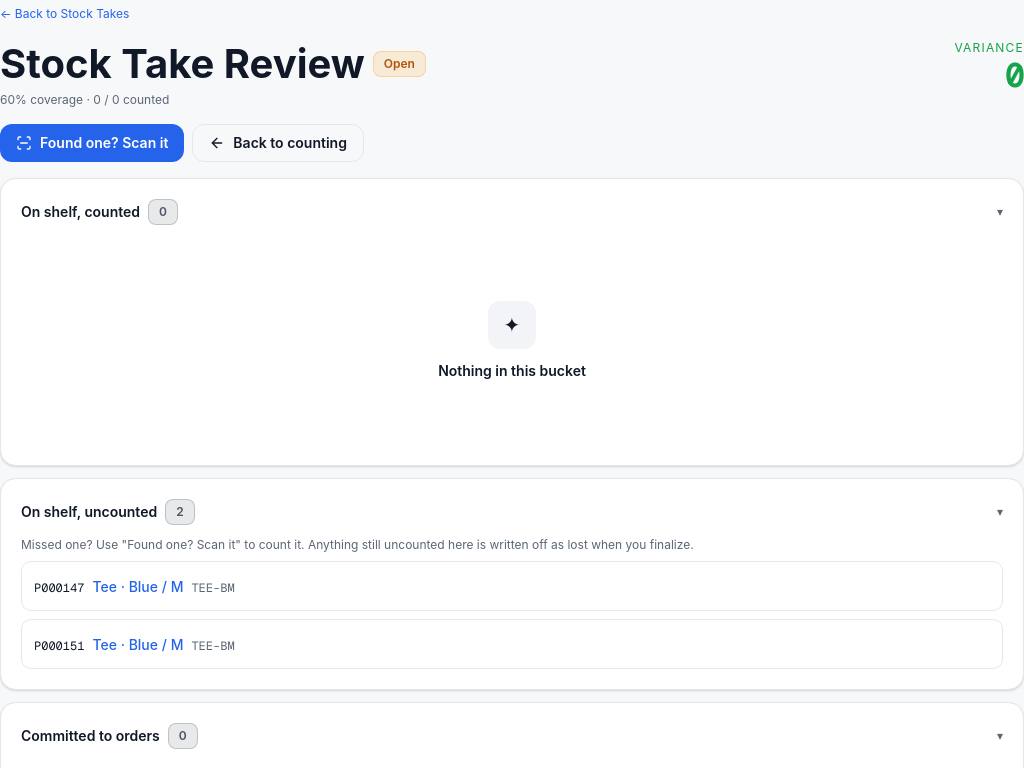
stock-take review — scan instead of Found it / Mark lost › rs3 — overlay outcomes: already counted, not in this count, the server's refusal text
This screenshot has width=1024, height=768.
Click the button "Found one? Scan it" at (92, 143), box x1=0 y1=124 x2=184 y2=162
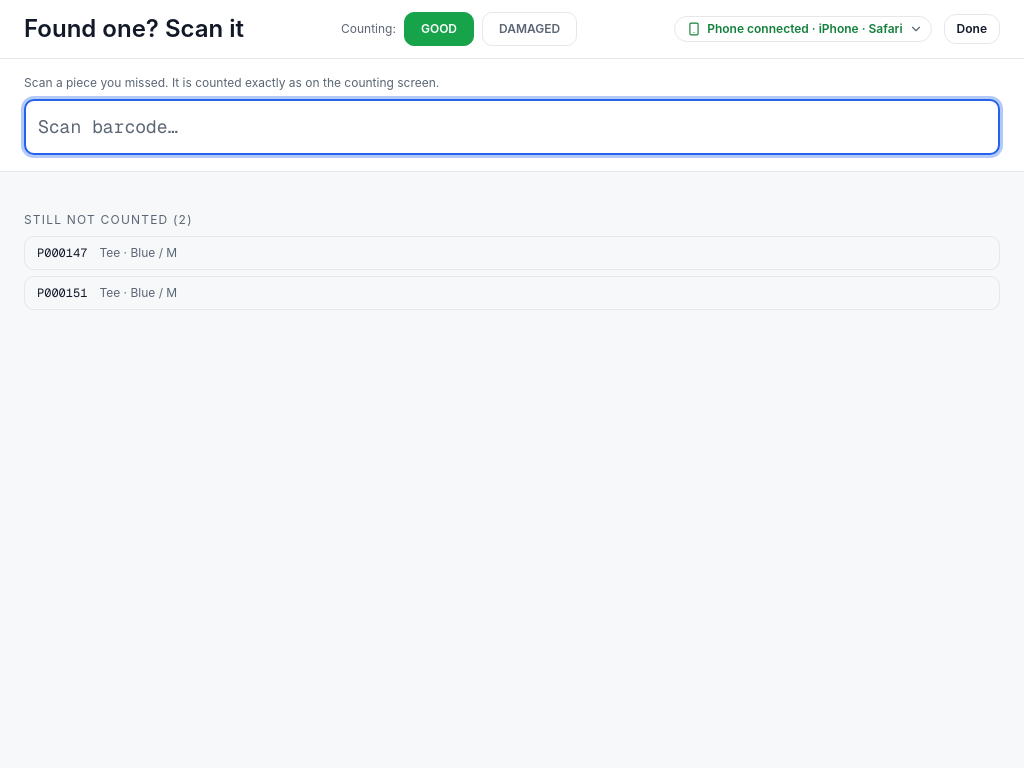
Type "PC-again" into the field at (512, 127), box x1=24 y1=99 x2=1000 y2=155
Press Enter in the field, box x1=24 y1=99 x2=1000 y2=155
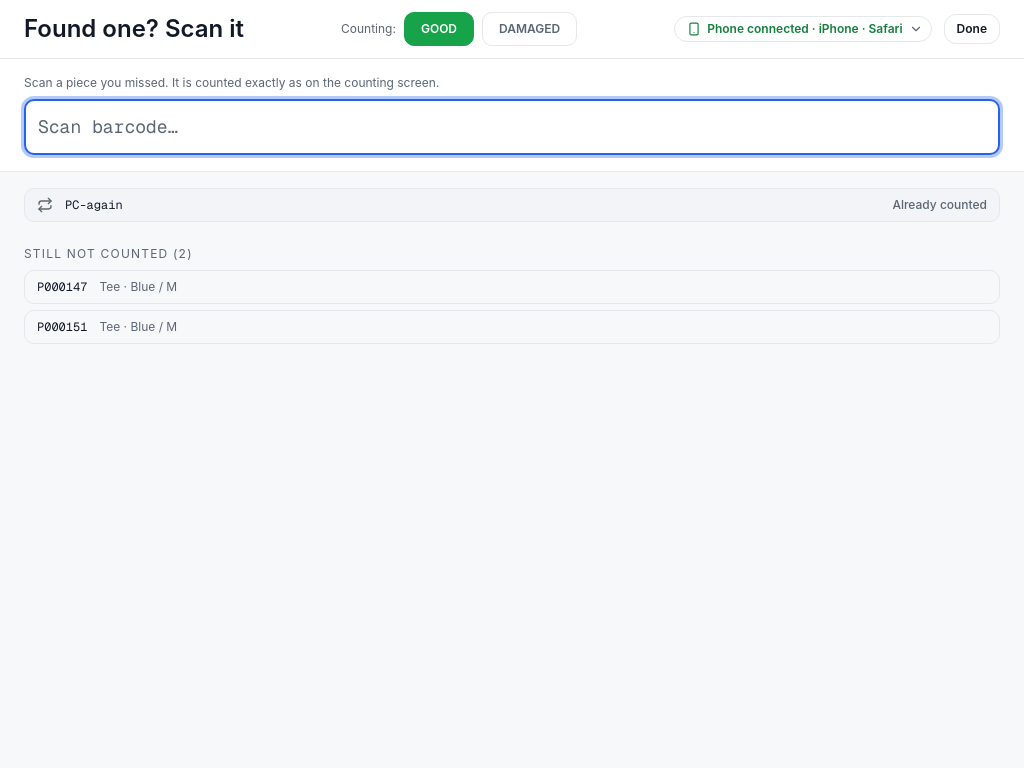
Now the text "Already counted" is shown, box x1=892 y1=197 x2=987 y2=213
Type "PC-other" into the field at (512, 127), box x1=24 y1=99 x2=1000 y2=155
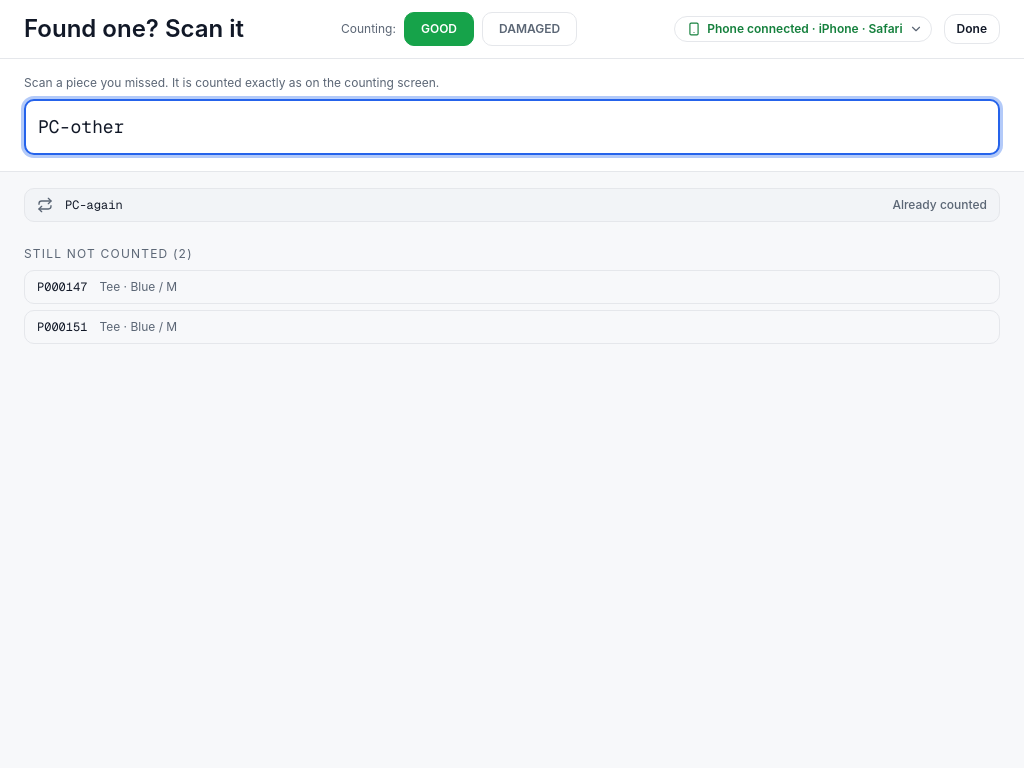
Press Enter in the field, box x1=24 y1=99 x2=1000 y2=155
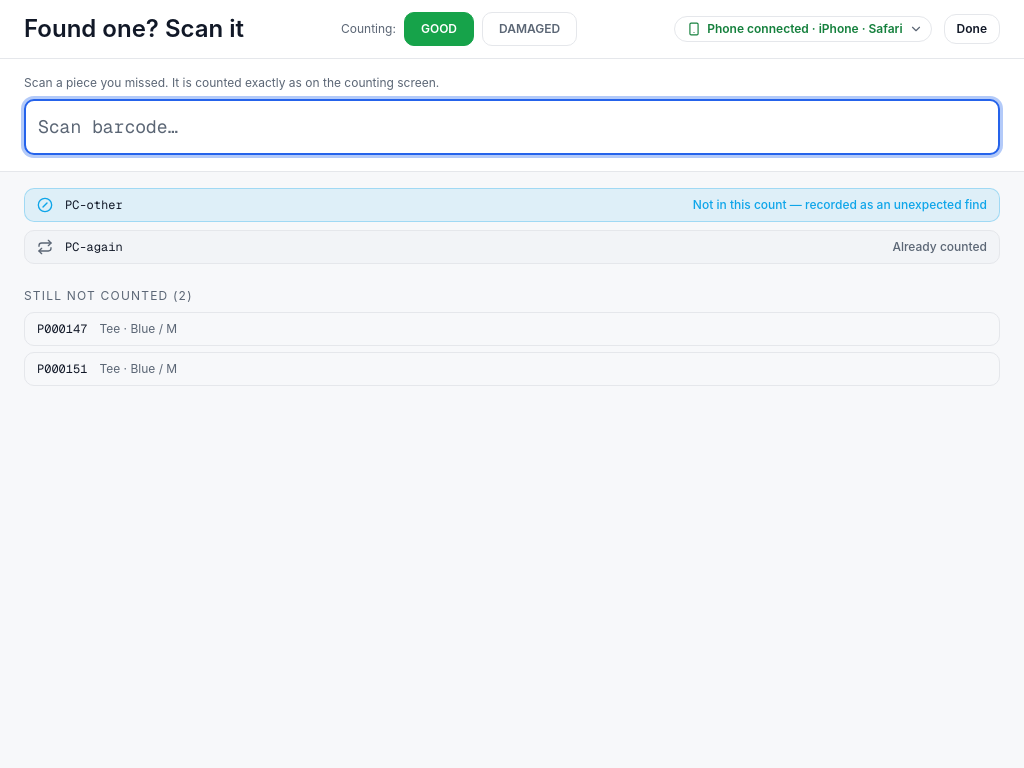
Now the text "Not in this count — recorded as an unexpected find" is shown, box x1=693 y1=197 x2=987 y2=213
Type "U-1" into the field at (512, 127), box x1=24 y1=99 x2=1000 y2=155
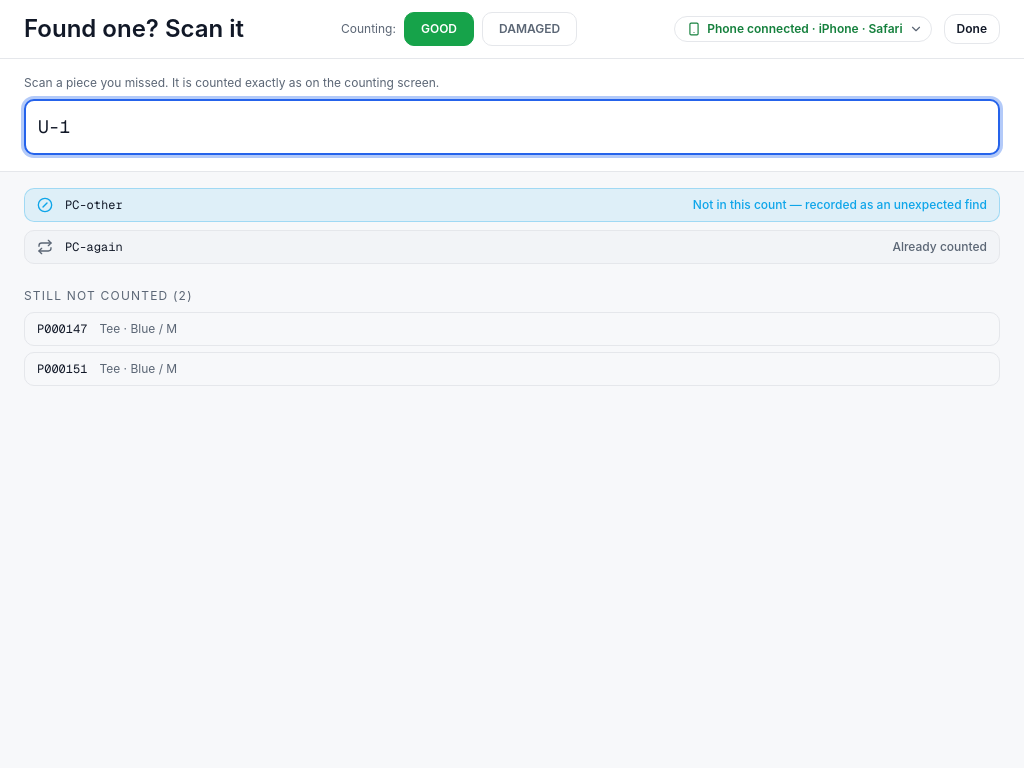
Press Enter in the field, box x1=24 y1=99 x2=1000 y2=155
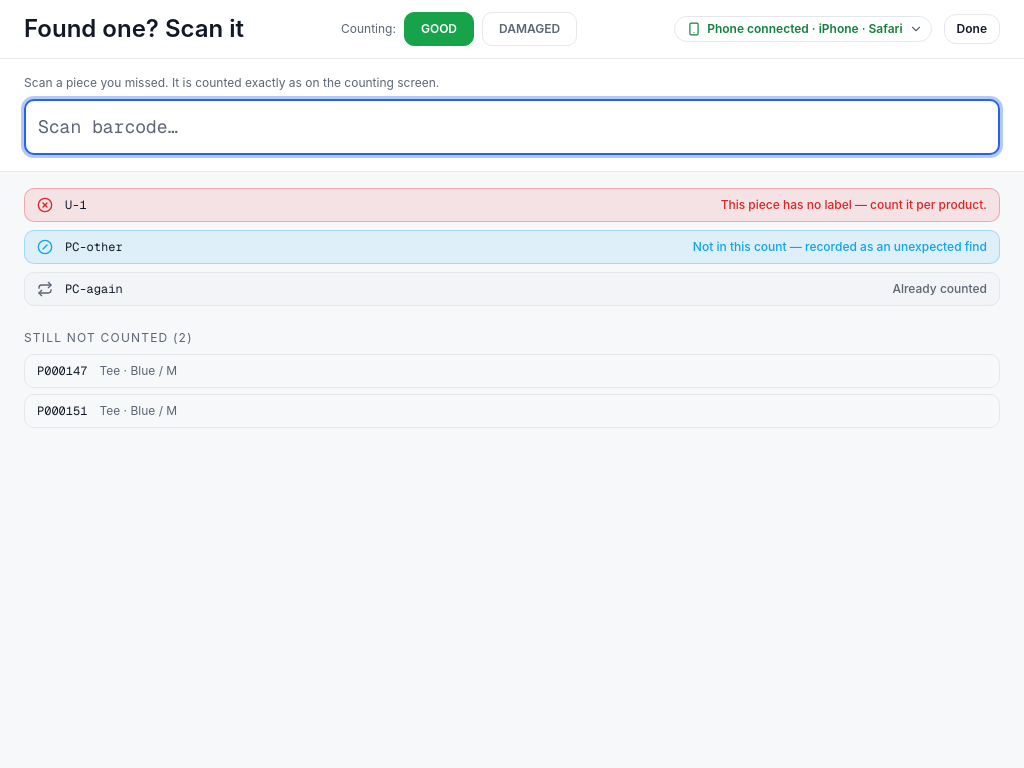
Now the text "This piece has no label — count it per product." is shown, box x1=721 y1=197 x2=987 y2=213
Now the number of elements with test id "review-scan-feedback" is 3, box x1=24 y1=188 x2=1000 y2=222; x1=24 y1=230 x2=1000 y2=264; x1=24 y1=272 x2=1000 y2=306
